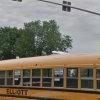Bus: (2, 55, 99, 100)
